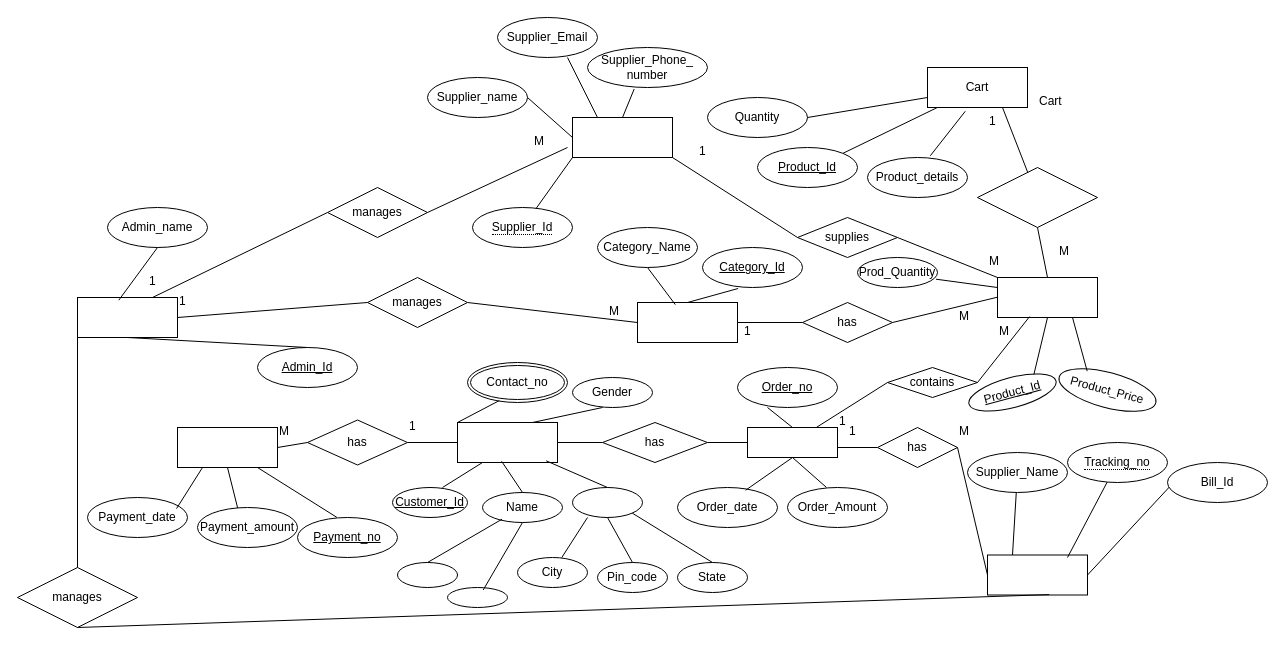
Some shapes in this 1285 by 646 pixel diagram are drawn without their labels. Here are the shapes that lost their labels. From the top down, the box of each, then its label:
(572, 116, 672, 158): Supplier
(976, 166, 1098, 228): Added to
(76, 296, 178, 338): Admin
(996, 276, 1098, 318): Product
(636, 302, 738, 342): Product Category
(176, 426, 278, 468): Payment
(456, 422, 558, 462): Customer
(746, 426, 838, 458): Order
(572, 486, 642, 518): Address
(396, 562, 458, 588): F_Name
(986, 554, 1088, 595): Billing information
(446, 586, 508, 608): L_Name
